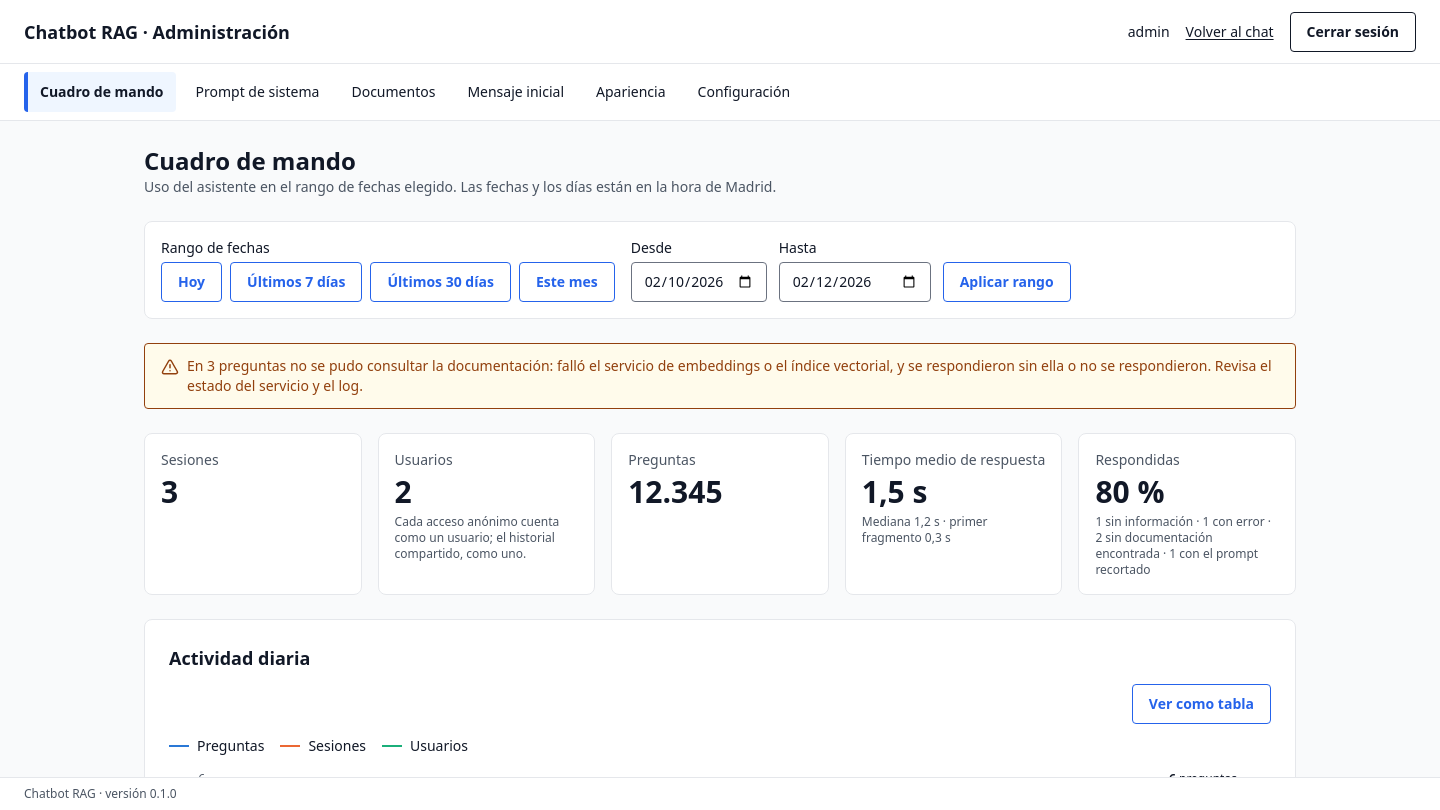
Test: DashboardPage › avisa de las preguntas sin documentación por un fallo de la búsqueda
Expected: the text "En 3 preguntas no se pudo consultar la documentación" is shown, [187,356,1272,395]
What coordinates should you click on to do the following:
click the button "Ver como tabla"
I would click on:
 (1201, 704)
Its box is [1132,684,1271,724].
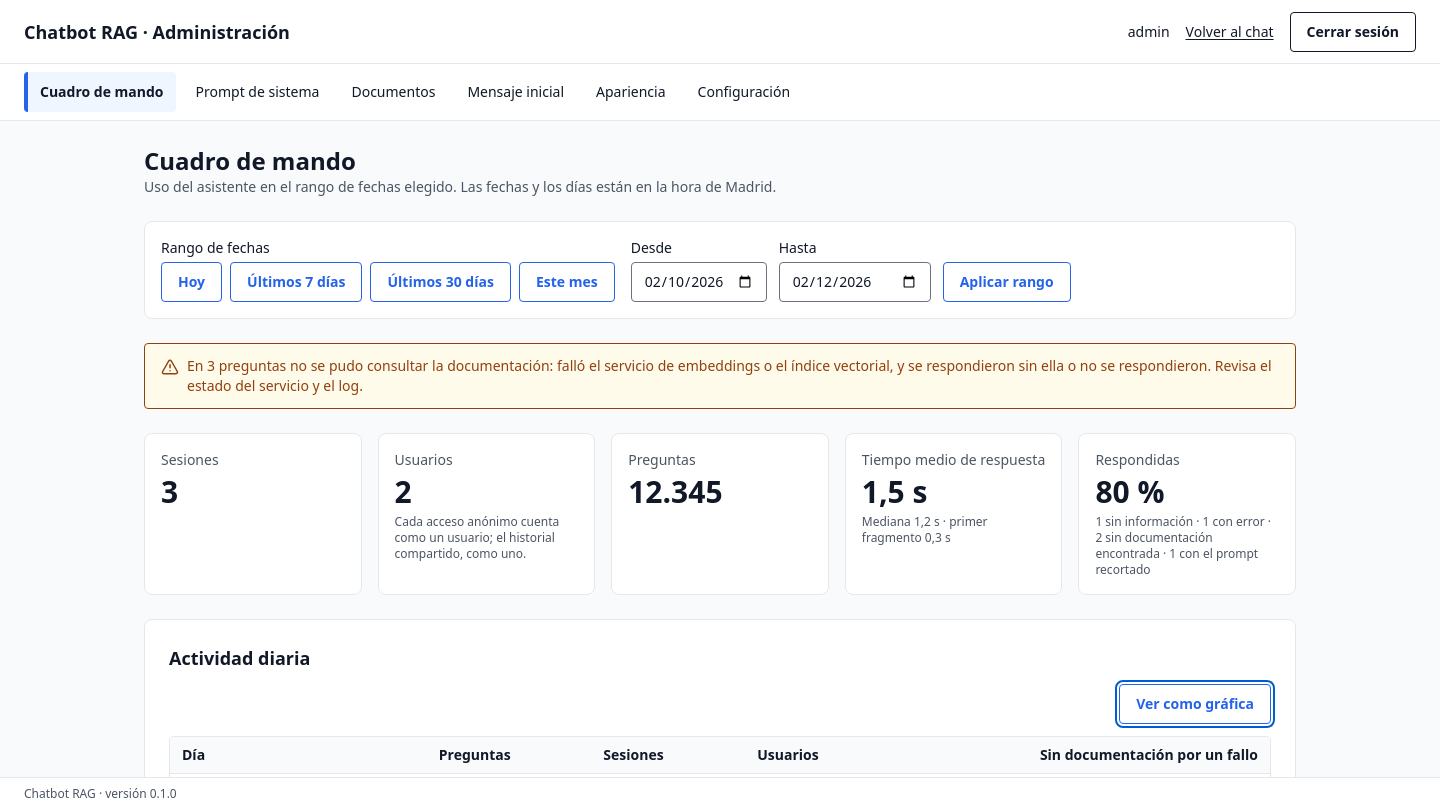
Result: the column heading "Sin documentación por un fallo" is shown at [831,737,1270,773]
